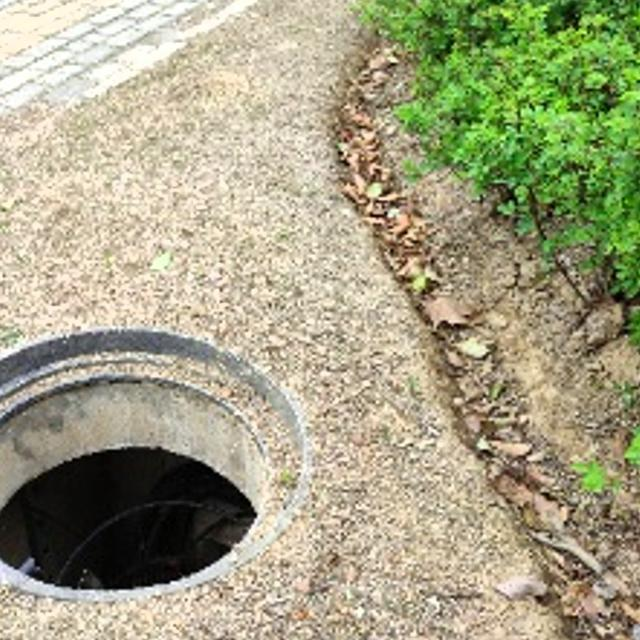lose: (0, 323, 309, 601)
